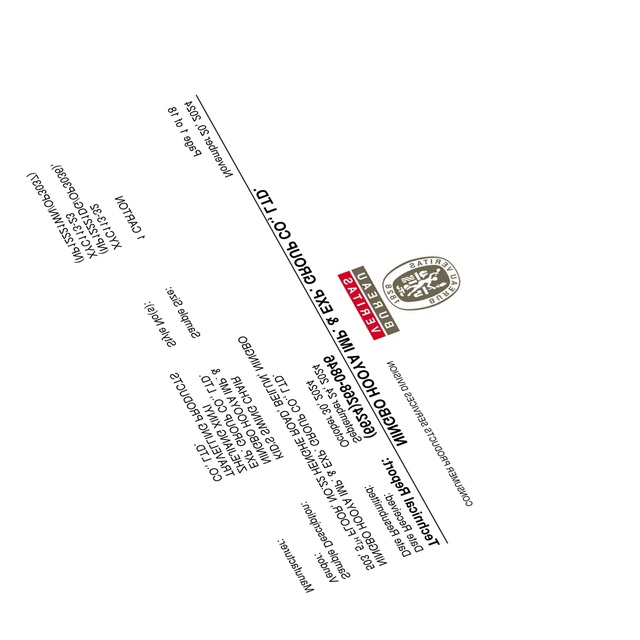bureau_veritas: (337, 253, 462, 343)
